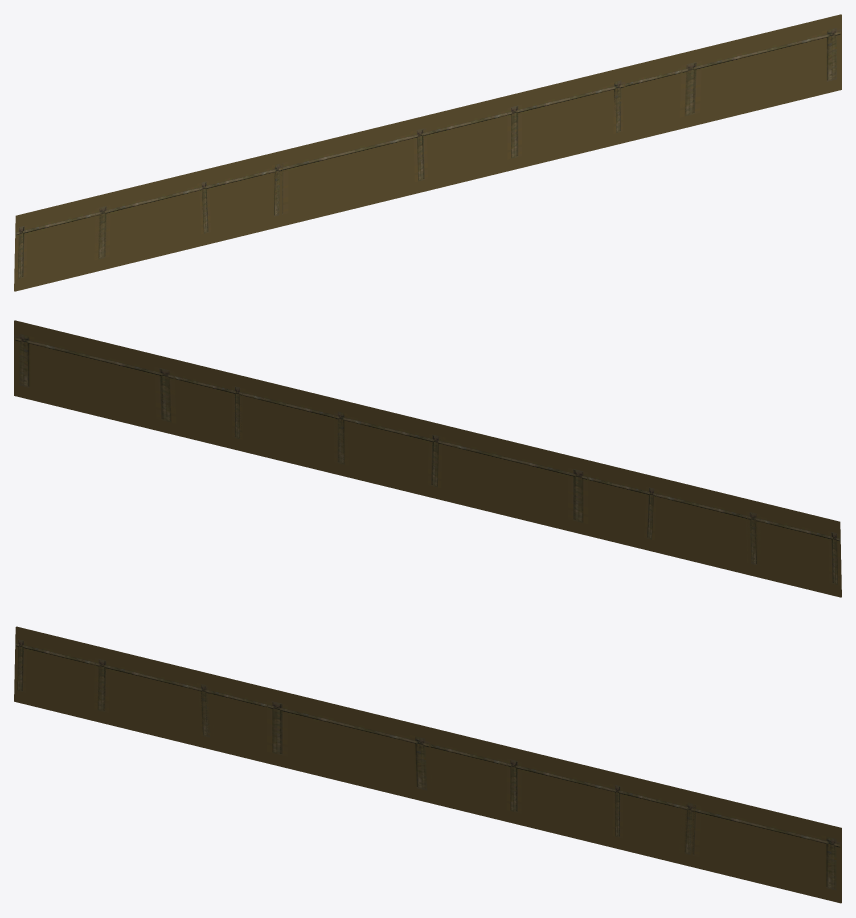
The model's file is thm_endr_lake_rail16m_l3.fbx.
3 views of the same model, one above another, from view 1: azimuth 30°, elevation 25°; view 2: azimuth 150°, elevation 25°; view 3: azimuth 330°, elevation 25° (orthographic).
Visible parts, largest first — view 1: mesh_node; view 2: mesh_node; view 3: mesh_node.
Boxes of the visible parts, x1=… form: mesh_node: x1=14, y1=14, x2=841, y2=291; mesh_node: x1=14, y1=320, x2=841, y2=597; mesh_node: x1=14, y1=626, x2=841, y2=903.
Size of the model in its own units: 16.04 by 1.39 by 0.0194.
Materials: 1 (1 with a texture image).
